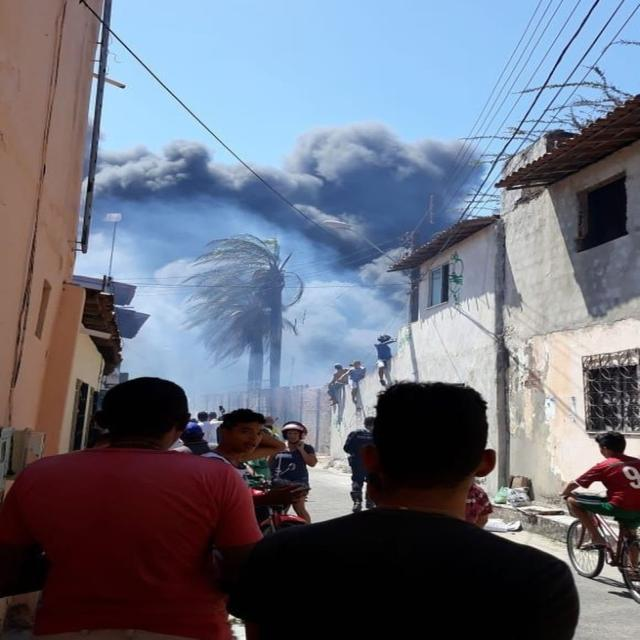Smoke: (75, 117, 499, 230), (298, 268, 384, 350)
